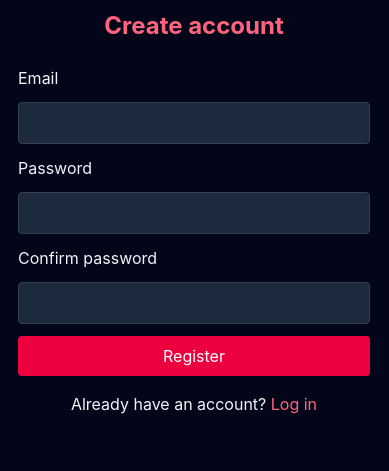
Scenario: shows an error when the passwords do not match
In the field labelled "Email": (194, 123) [18, 102, 370, 144], type "a@b.com"
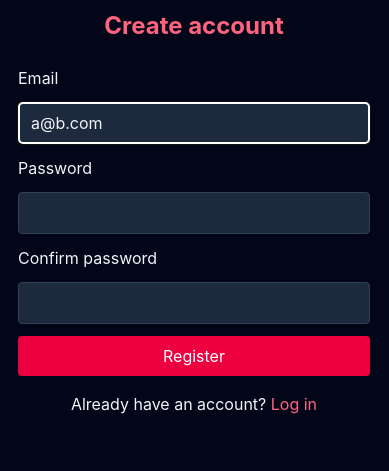
In the password field labelled "Password": (194, 213) [18, 192, 370, 234], type "123456"
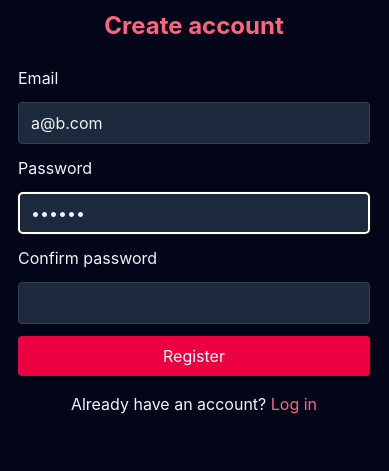
In the password field labelled "Confirm password": (194, 303) [18, 282, 370, 324], type "654321"
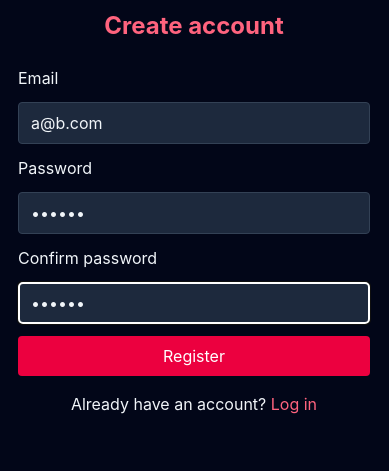
Click the button "Register": click(194, 356) [18, 336, 370, 376]
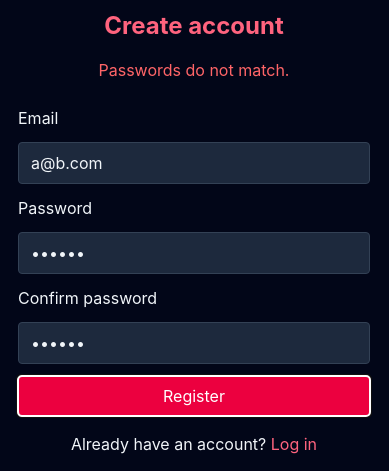
Expected: the text "Passwords do not match." is shown, [98, 60, 290, 80]
